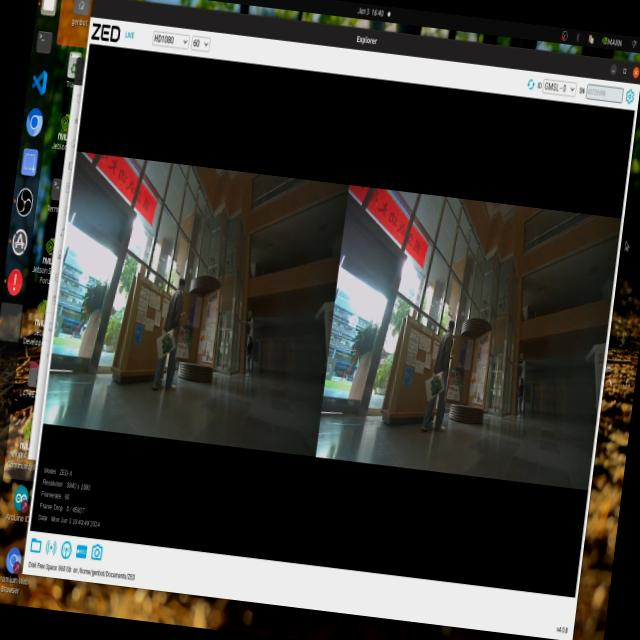green: (424, 368, 449, 404), (157, 325, 180, 362)
